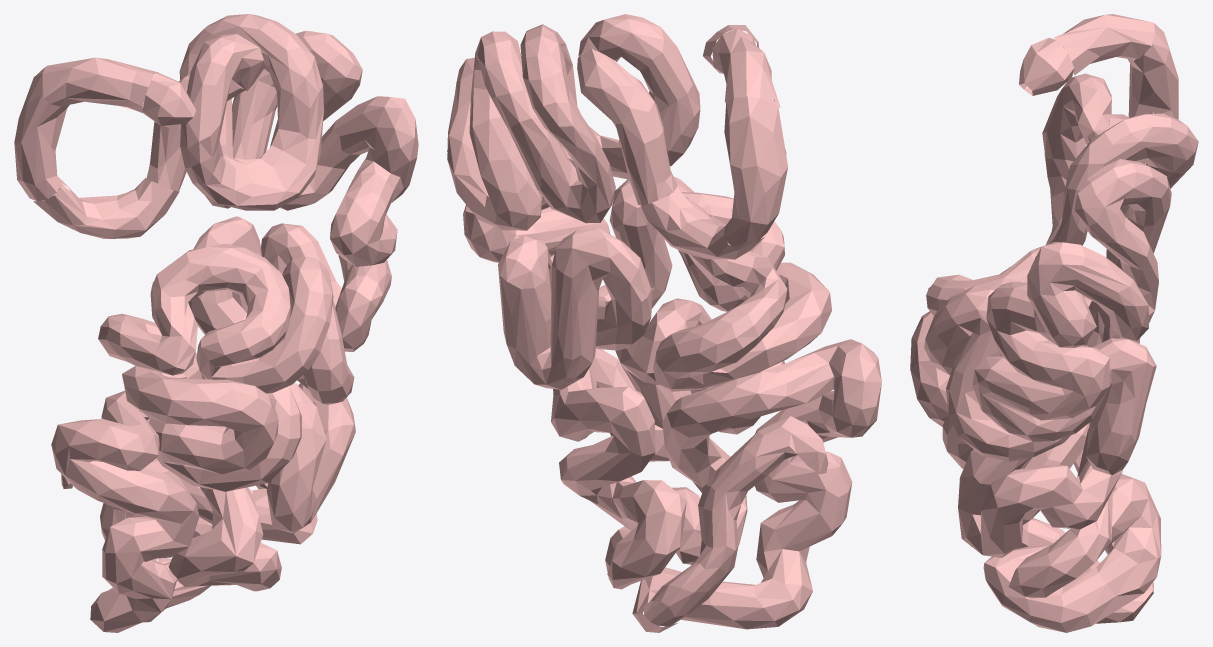
The model's file is VH_M_Small_Intestine_0.2.glb.
The picture shows the model from 3 angles, left to right: view 1: azimuth 30°, elevation 25°; view 2: azimuth 150°, elevation 25°; view 3: azimuth 270°, elevation 25°; orthographic projection. The views are drawn at different scales.
Parts seen in each view (by area): view 1: VH_M_jejunum, VH_M_ileum, VH_M_duodenum_horizonal, VH_M_duodenum_superior, VH_M_duodenum_descending, VH_M_duodenum_ascending, VH_M_duodenal_ampulla, VH_M_ileum_terminal; view 2: VH_M_jejunum, VH_M_ileum, VH_M_ileum_terminal, VH_M_duodenum_descending, VH_M_duodenum_ascending, VH_M_duodenum_horizonal, VH_M_duodenum_superior; view 3: VH_M_jejunum, VH_M_ileum, VH_M_duodenum_superior, VH_M_duodenum_descending, VH_M_duodenal_ampulla.
Part boxes in pixels (x1,y1,x2,y2): VH_M_jejunum: [98, 14, 418, 405]; VH_M_ileum: [51, 366, 355, 632]; VH_M_duodenum_horizonal: [33, 178, 179, 238]; VH_M_duodenum_superior: [42, 57, 158, 113]; VH_M_duodenum_descending: [14, 67, 70, 201]; VH_M_duodenum_ascending: [146, 72, 245, 191]; VH_M_duodenal_ampulla: [142, 72, 195, 125]; VH_M_ileum_terminal: [61, 474, 156, 561]; VH_M_jejunum: [447, 14, 787, 391]; VH_M_ileum: [551, 262, 881, 632]; VH_M_ileum_terminal: [644, 416, 828, 626]; VH_M_duodenum_descending: [724, 96, 787, 249]; VH_M_duodenum_ascending: [577, 49, 677, 205]; VH_M_duodenum_horizonal: [640, 188, 764, 259]; VH_M_duodenum_superior: [712, 28, 780, 107]; VH_M_jejunum: [924, 73, 1198, 475]; VH_M_ileum: [910, 311, 1161, 632]; VH_M_duodenum_superior: [1054, 14, 1154, 75]; VH_M_duodenum_descending: [1127, 23, 1178, 119]; VH_M_duodenal_ampulla: [1019, 37, 1074, 95].
Bounding box in the file's own units: 0.1884 × 0.2664 × 0.1231.
